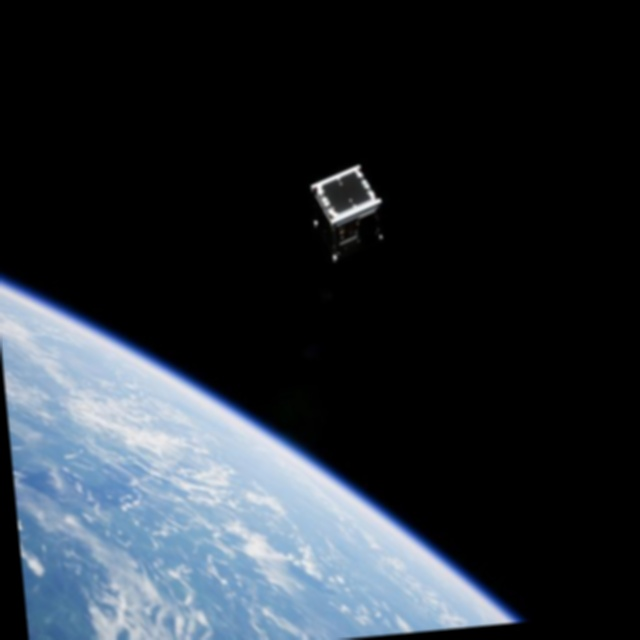satellite: (303, 162, 391, 265)
